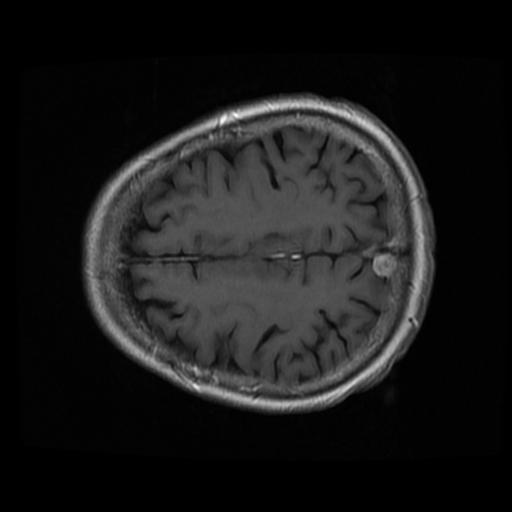meningioma: (371, 255, 395, 277)
